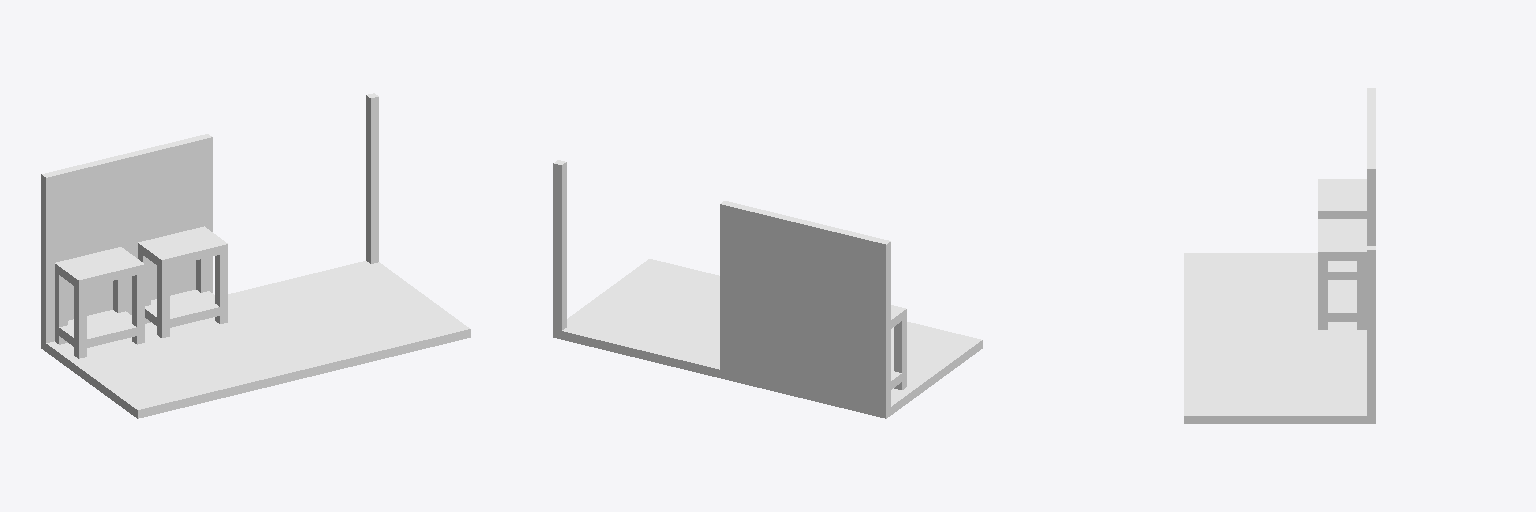
Rendered from level_three-8.obj.
3 views of the same model, side by side, from view 1: azimuth 30°, elevation 25°; view 2: azimuth 150°, elevation 25°; view 3: azimuth 270°, elevation 25° (orthographic).
Visible parts, largest first — view 1: level_three-8; view 2: level_three-8; view 3: level_three-8.
Part boxes in pixels (x1,y1,x2,y2): level_three-8: (41,93,470,418); level_three-8: (553,160,982,418); level_three-8: (1184,88,1375,423).
Bounding box in the file's own units: 40 × 20 × 20.